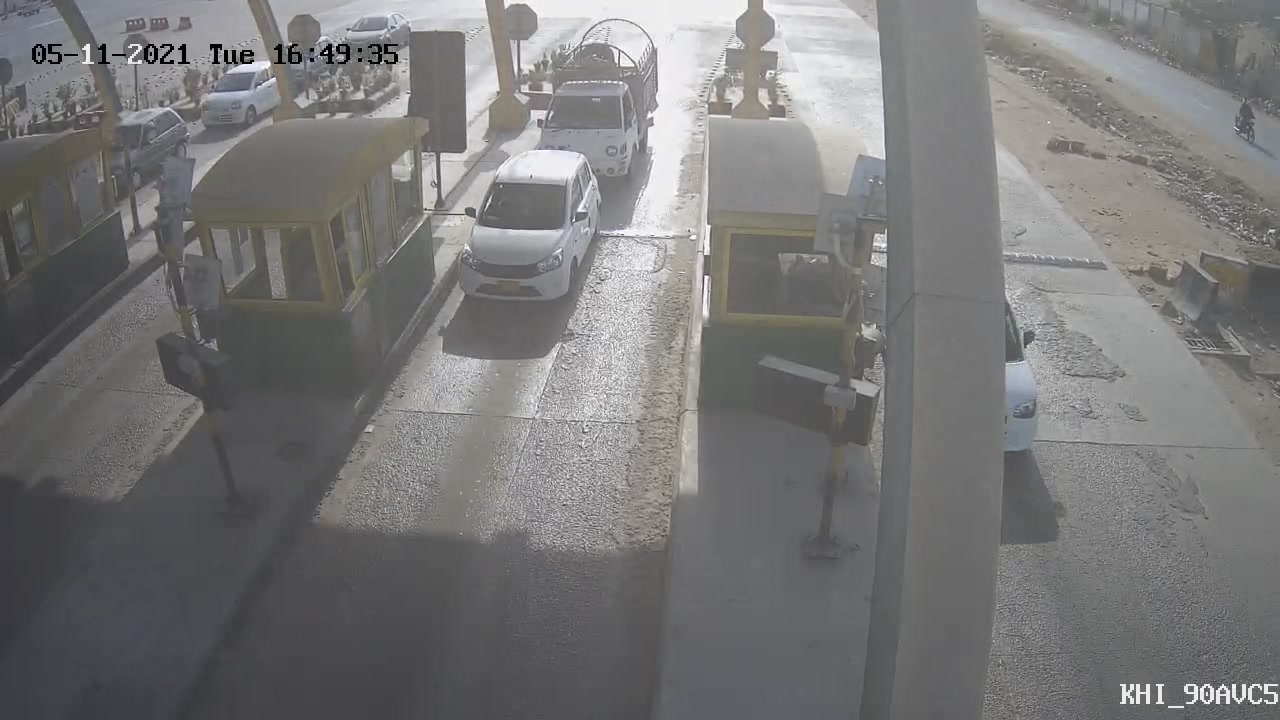F1: (454, 145, 613, 320)
F2: (524, 9, 678, 192)
